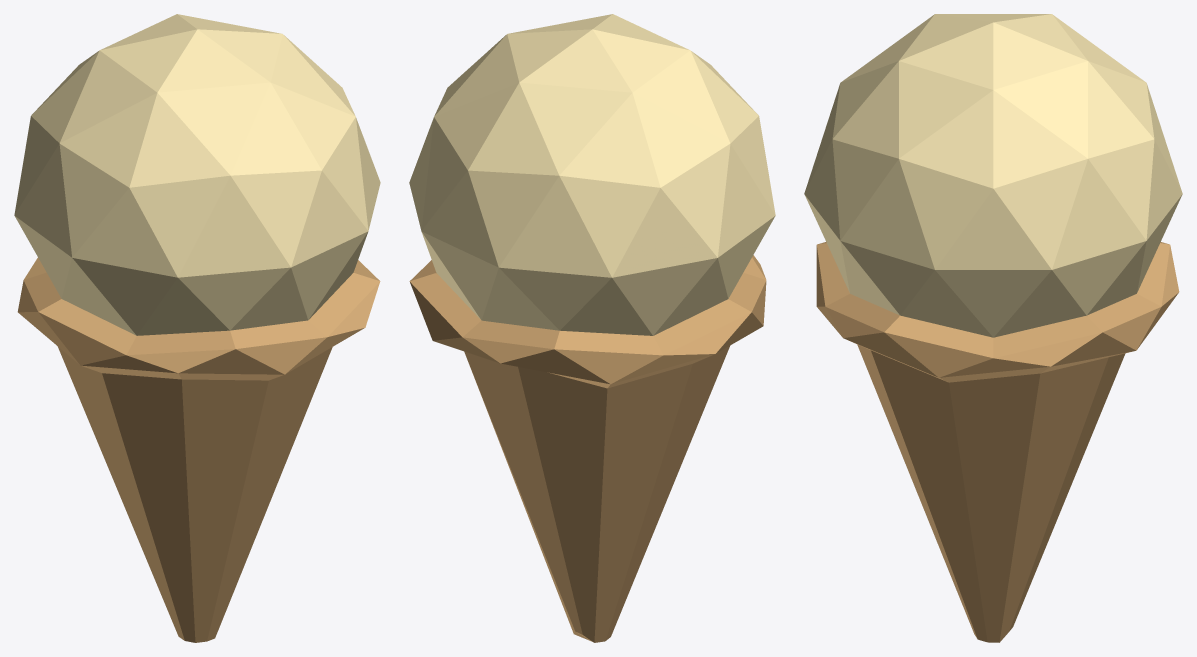
Rendered from ice_vanilla.fbx.
The picture shows the model from 3 angles, left to right: view 1: azimuth 30°, elevation 25°; view 2: azimuth 150°, elevation 25°; view 3: azimuth 270°, elevation 25°; orthographic projection.
Visible parts, largest first — view 1: ice_vanilla; view 2: ice_vanilla; view 3: ice_vanilla.
Boxes of the visible parts, box(x1,y1,x2,y2) form: ice_vanilla: box(14, 14, 380, 642); ice_vanilla: box(409, 14, 775, 642); ice_vanilla: box(804, 14, 1182, 642).
Size of the model in its own units: 7.33 by 13.66 by 7.59.
